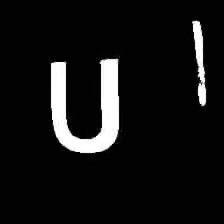LTR_U: (41, 49, 125, 157)
